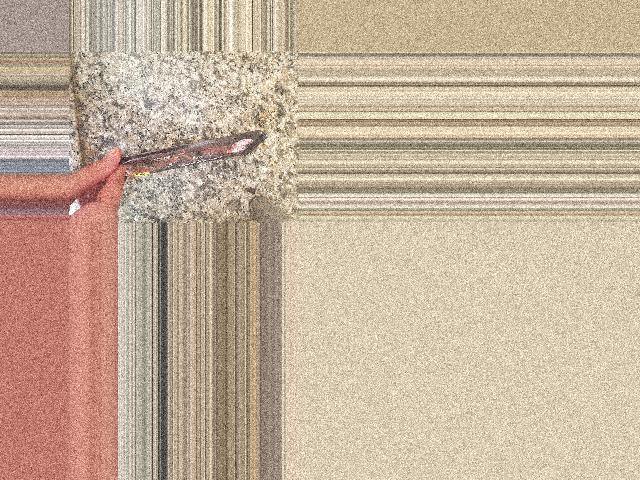chocolate: (100, 121, 266, 188)
